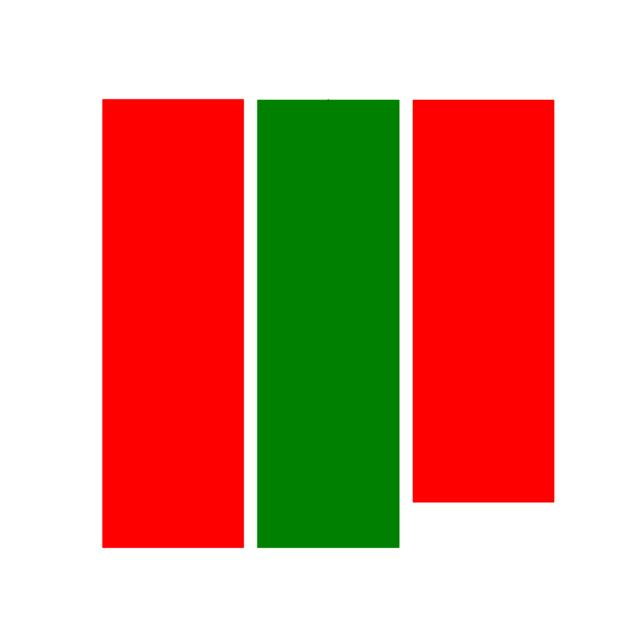Bearish Marubozu: (103, 97, 245, 548), (410, 99, 557, 502)
Bullish Marubozu: (257, 98, 400, 548)
